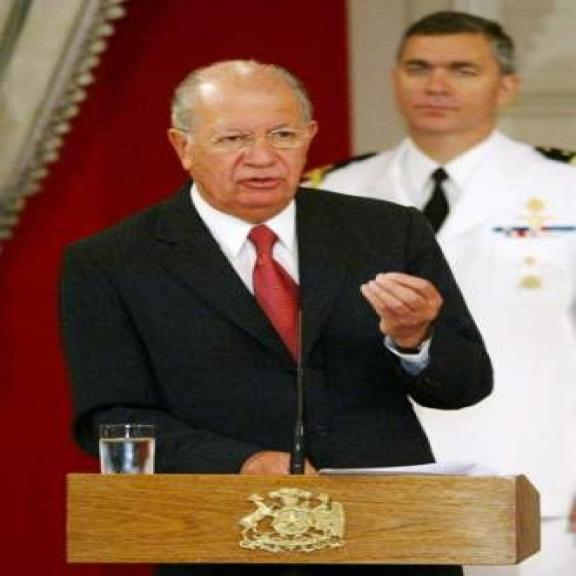face: (175, 101, 319, 207), (392, 33, 524, 135)
